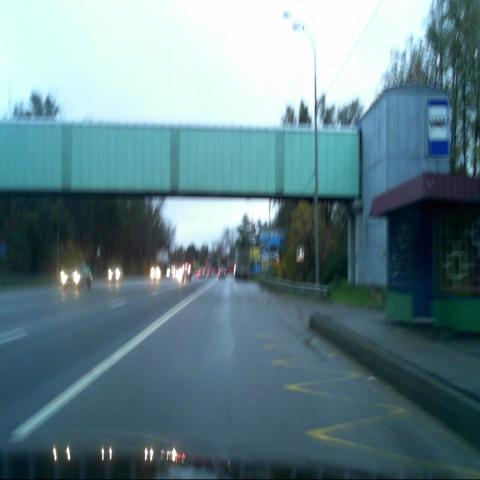5_16: (426, 96, 450, 159)
